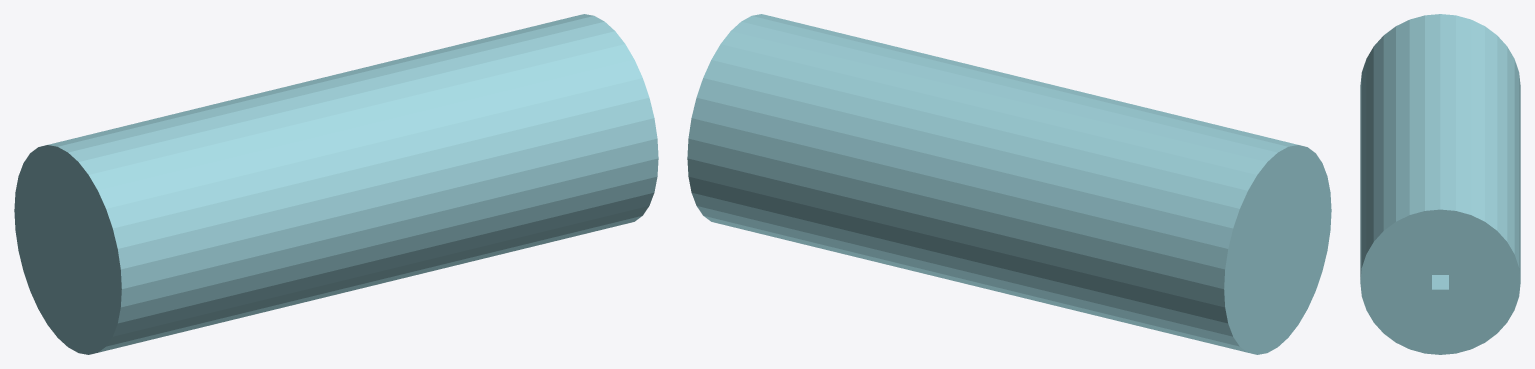
File: cylinder_marker_v4009.obj
3 renders of one model, left to right at view 1: azimuth 30°, elevation 25°; view 2: azimuth 150°, elevation 25°; view 3: azimuth 270°, elevation 25°, orthographic. The views are drawn at different scales.
Bounding box in the file's own units: 0.154 × 0.0497 × 0.0497.
1 material, 1 textured.
